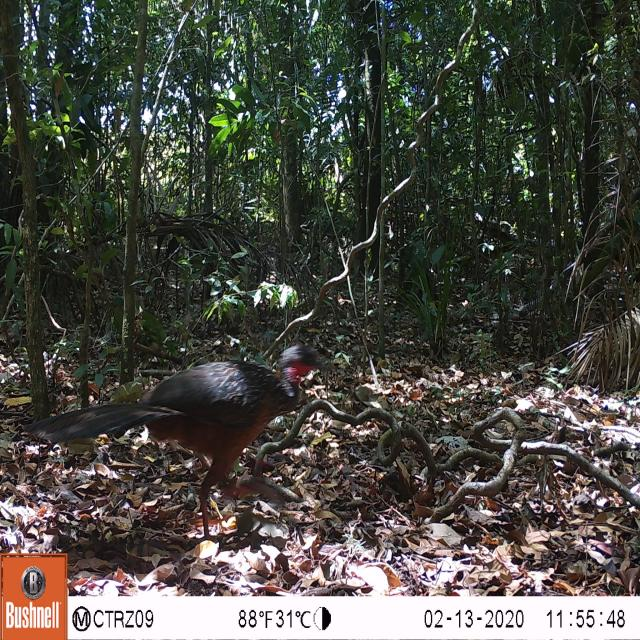Spixs Guan: (21, 328, 339, 553)
